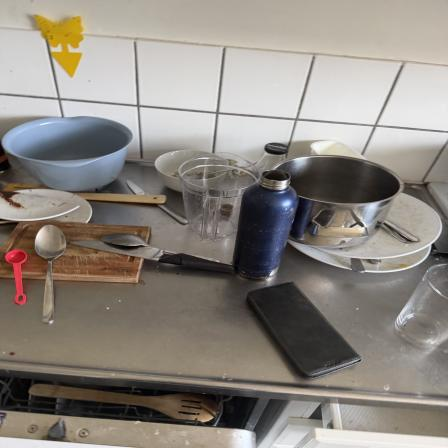blue_bottle: (236, 167, 296, 280)
phone: (245, 282, 367, 378)
